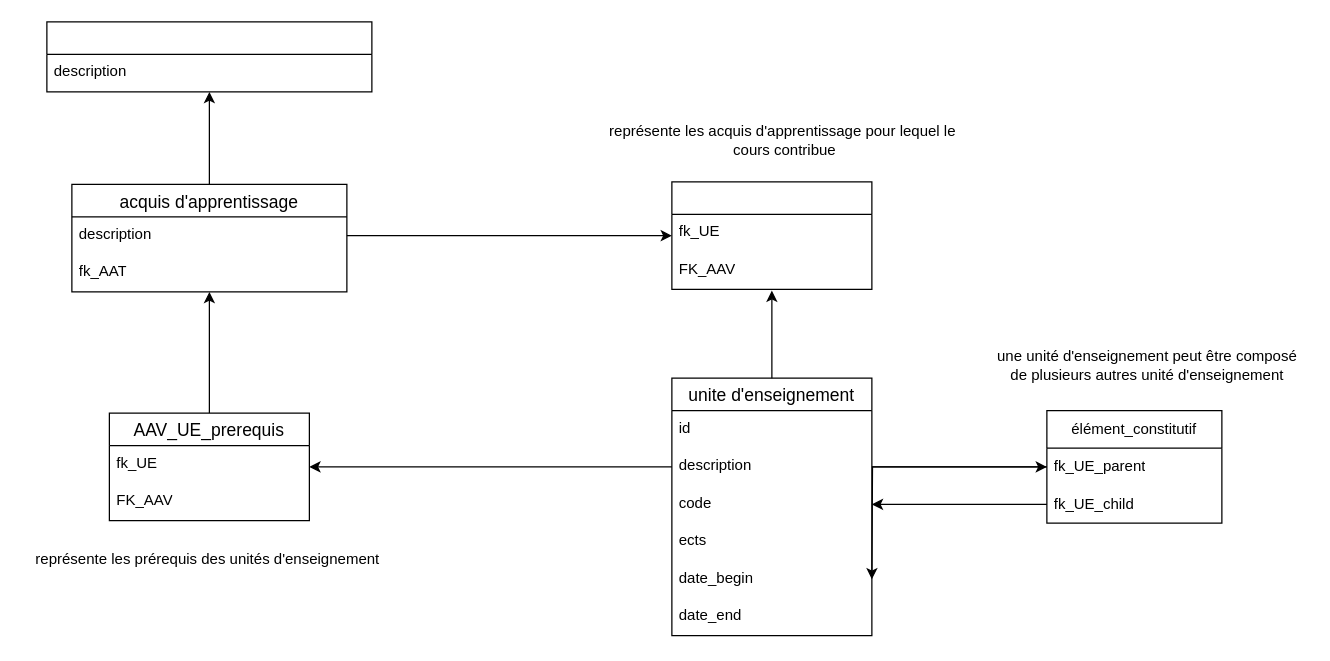
Image size: 1330x661. Some labels were removed from this diagram. Each missing label, with the box of its shape:
AAV_UE_terminaux: (671, 181, 872, 289)
Acquis d'apprentissage terminaux: (46, 21, 372, 92)
